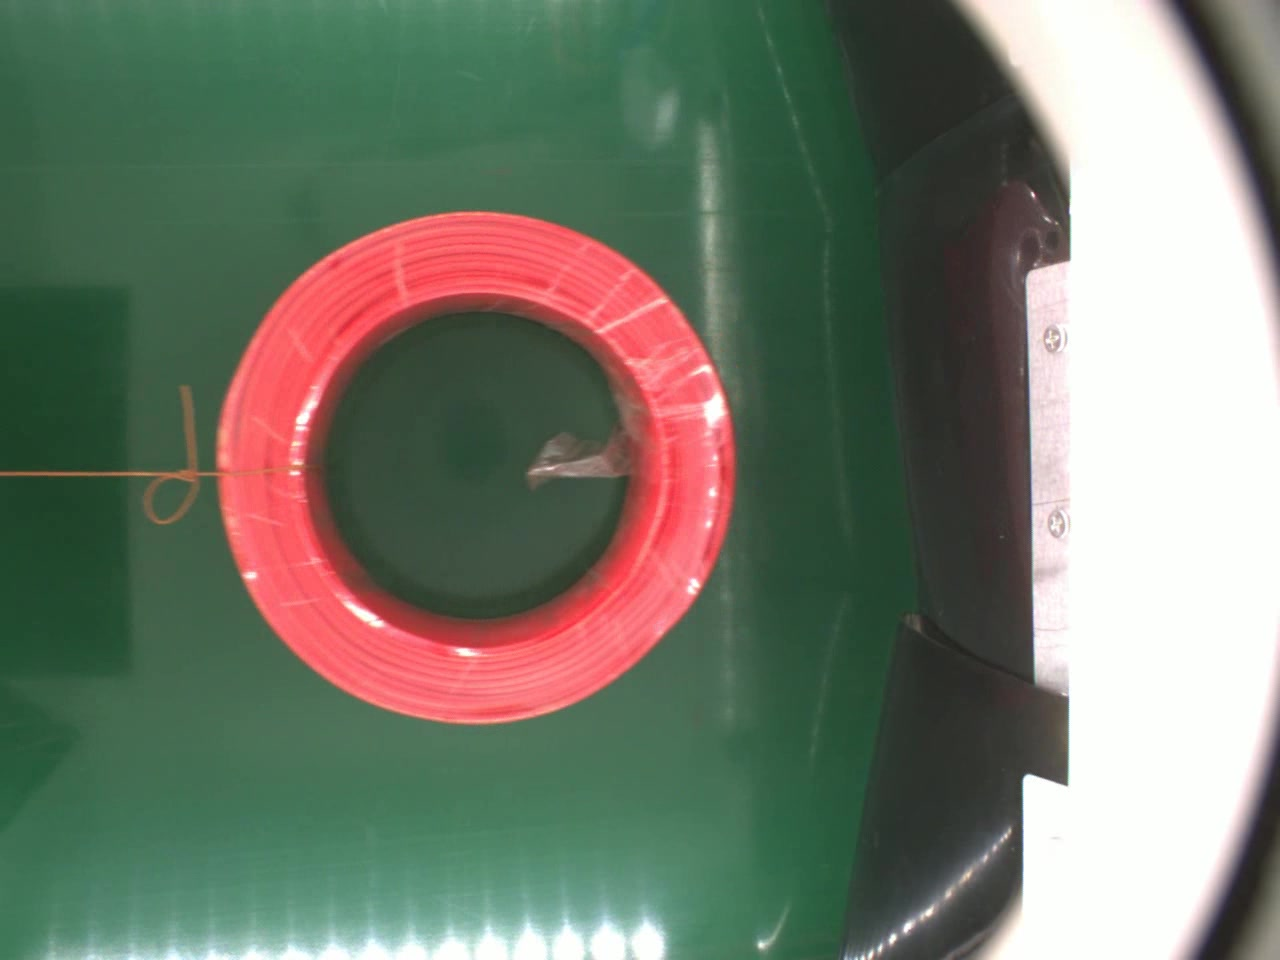red: (207, 210, 730, 727)
